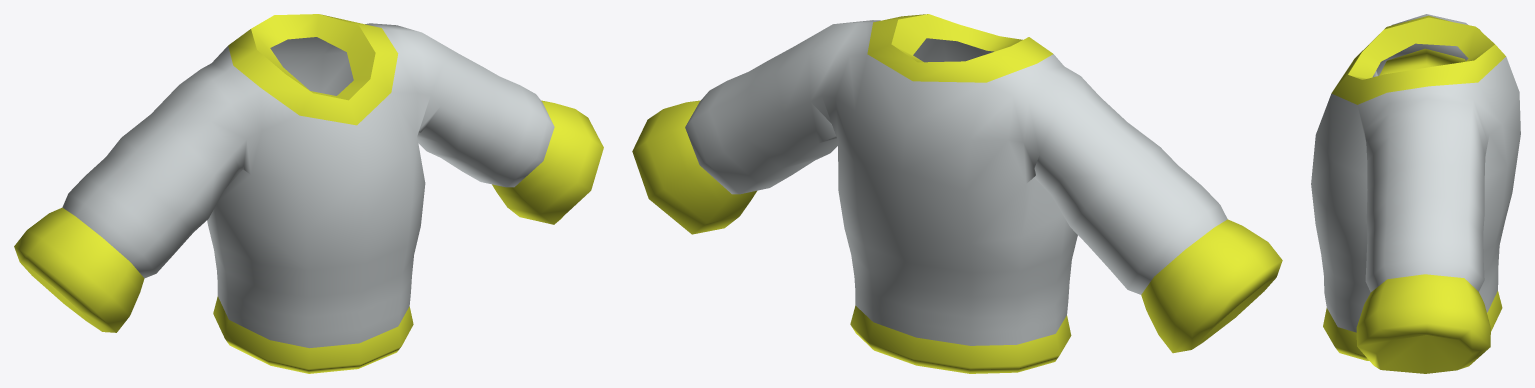
File: Top_01_Slim.fbx
3 views of the same model, side by side, from view 1: azimuth 30°, elevation 25°; view 2: azimuth 150°, elevation 25°; view 3: azimuth 270°, elevation 25° (orthographic). The views are drawn at different scales.
Visible parts, largest first — view 1: Top_01_Slim; view 2: Top_01_Slim; view 3: Top_01_Slim.
Part boxes in pixels (x1=…): Top_01_Slim: x1=14, y1=14, x2=603, y2=373; Top_01_Slim: x1=632, y1=14, x2=1282, y2=373; Top_01_Slim: x1=1311, y1=14, x2=1520, y2=373.
Size of the model in its own units: 90.3 by 45.39 by 29.6.
